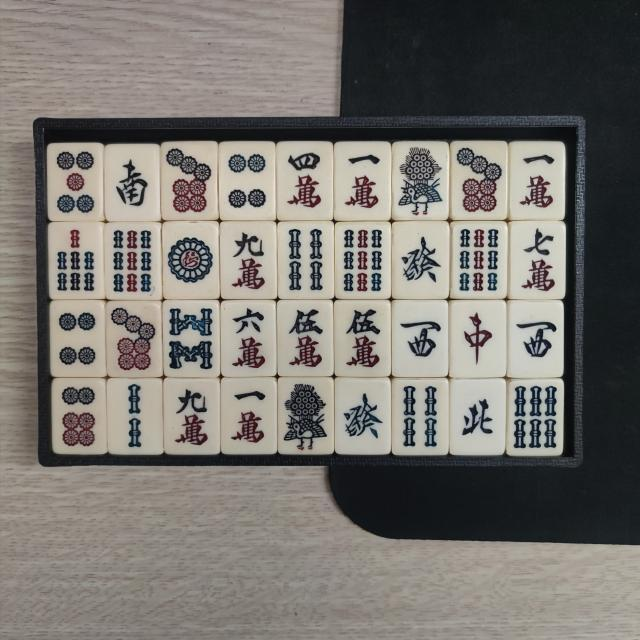hdg: (396, 226, 444, 292), (340, 382, 384, 450)
hdr: (456, 305, 498, 371)
hwn: (454, 384, 500, 452)
hws: (109, 148, 154, 216)
hww: (397, 305, 445, 372), (512, 306, 560, 372)
sb1: (395, 144, 446, 218), (282, 381, 330, 453)
sb2: (112, 382, 159, 452)
sb4: (282, 225, 330, 293), (398, 383, 442, 451)
sb6: (512, 384, 559, 452)
sb7: (53, 223, 100, 296)
sb8: (166, 304, 216, 374)
sb9: (338, 225, 386, 294), (456, 225, 504, 294), (108, 226, 155, 296)
sc1: (512, 144, 561, 213), (224, 381, 272, 451), (338, 145, 385, 215)
sc4: (280, 144, 326, 214)
sc5: (282, 305, 328, 372), (342, 305, 388, 372)
sc6: (224, 304, 272, 372)
sc7: (514, 224, 563, 296)
sc9: (222, 226, 274, 296), (170, 382, 214, 452)
sd1: (166, 229, 217, 295)
sd4: (221, 146, 271, 214), (54, 304, 100, 372)
sd5: (50, 146, 99, 216)
sd6: (56, 381, 100, 450)
sd7: (453, 144, 504, 216), (164, 145, 215, 216), (110, 304, 158, 372)
